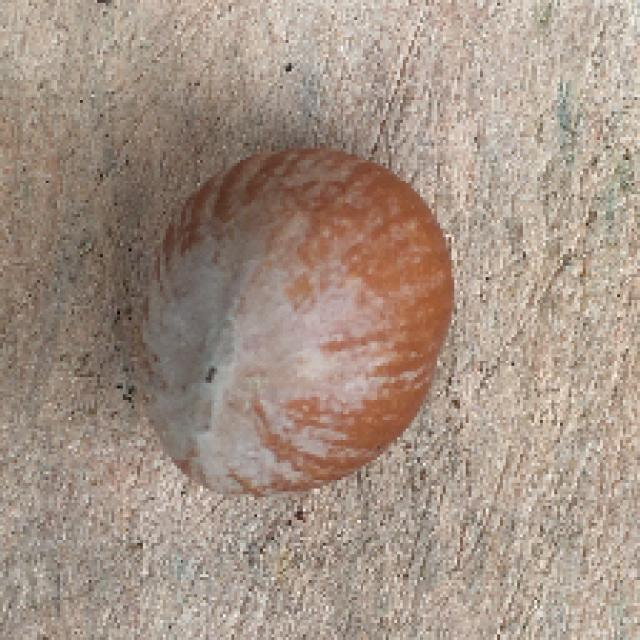qualityHazelnut: (124, 115, 466, 502)
